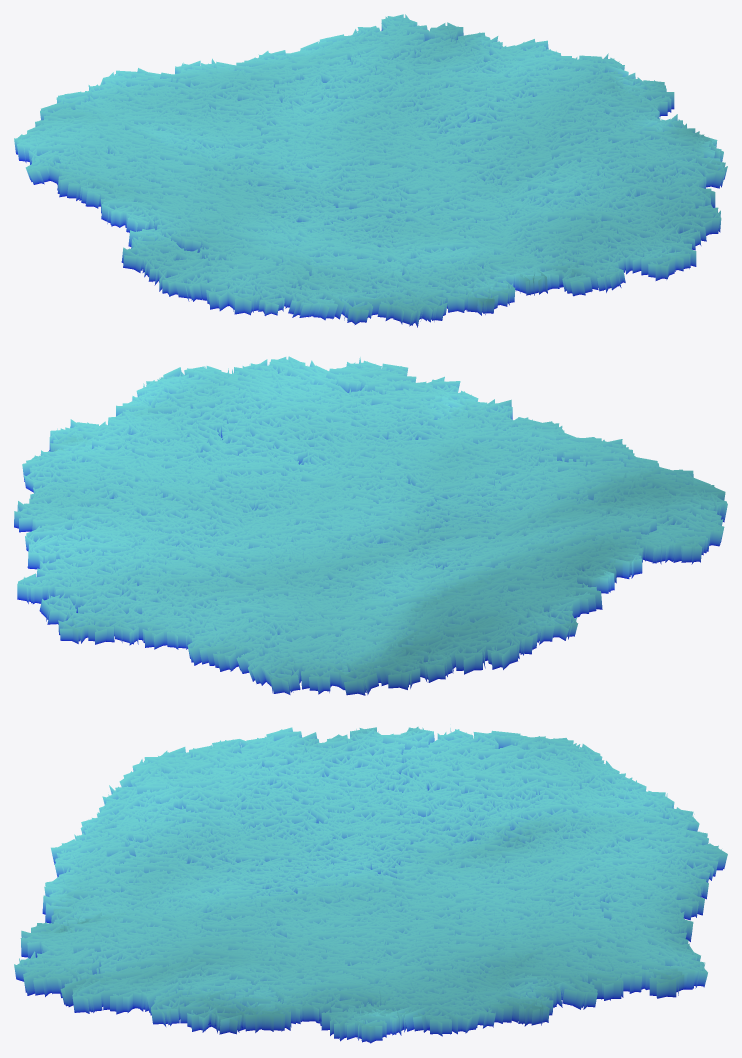
File: SM_Env_Grass_Large_04.FBX
3 views of the same model, one above another, from view 1: azimuth 30°, elevation 25°; view 2: azimuth 150°, elevation 25°; view 3: azimuth 270°, elevation 25° (orthographic). The views are drawn at different scales.
Parts seen in each view (by area): view 1: SM_Env_Grass_Large_04; view 2: SM_Env_Grass_Large_04; view 3: SM_Env_Grass_Large_04.
Part boxes in pixels (x1,y1,x2,y2): SM_Env_Grass_Large_04: (14, 14, 727, 327); SM_Env_Grass_Large_04: (14, 356, 727, 695); SM_Env_Grass_Large_04: (14, 726, 727, 1043).
Size of the model in its own units: 3393 by 3423 by 335.
